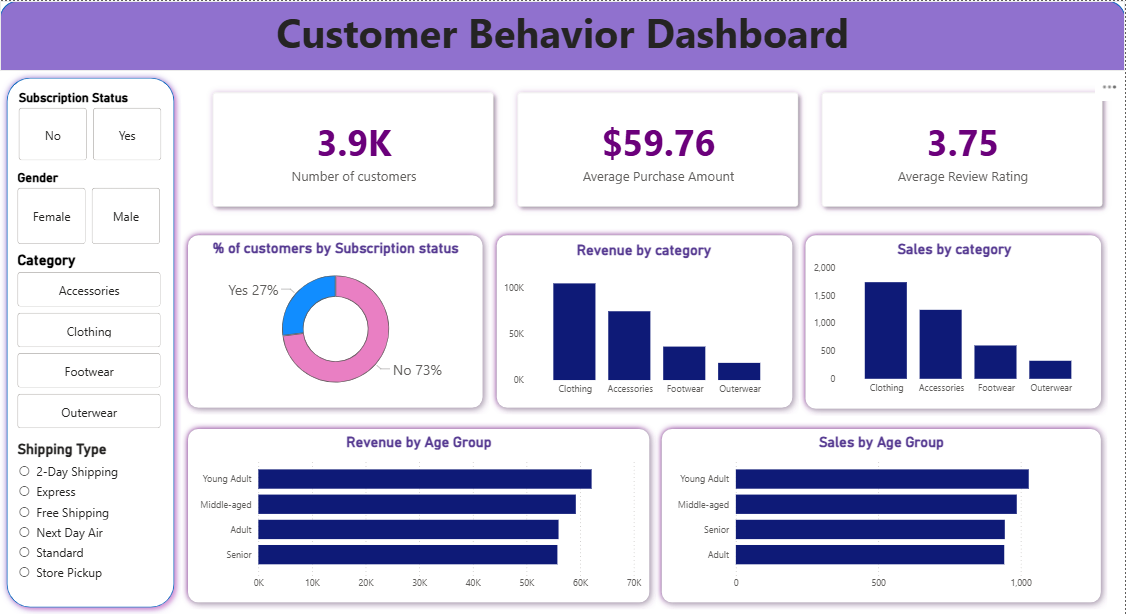

The page's visual inventory and layout, read from the dashboard file:
{"tool":"powerbi","page":{"name":"Page 1","canvas":[1500,820],"ordinal":0},"visuals":[{"type":"cardVisual","fields":{"Data":["customer_db customer.Number of customers","customer_db customer.Average Purchase Amount","customer_db customer.Average Review Rating"]},"box":[255.7,92.9,1244.3,210],"z":0},{"type":"shape","box":[0,0,1500.3,93.3],"z":1000},{"type":"textbox","box":[0,0,1500.3,93.3],"z":2000},{"type":"shape","box":[242.3,303.2,410.9,247.9],"z":3000},{"type":"shape","box":[653.1,303.2,412.3,247.9],"z":4000},{"type":"shape","box":[1065.4,303.2,412.3,249.3],"z":5000},{"type":"donutChart","title":"% of customers by Subscription status","fields":{"Y":["customer_db customer.Number of customers"],"Category":["customer_db customer.subscription_status"]},"box":[255,318.8,385.4,216.8],"z":6000},{"type":"clusteredColumnChart","title":"Revenue by category","fields":{"Y":["Sum(customer_db customer.purchase_amount)"],"Category":["customer_db customer.category"]},"box":[665.9,321.6,383.9,213.9],"z":7000},{"type":"clusteredColumnChart","title":"Sales by category","fields":{"Category":["customer_db customer.category"],"Y":["CountNonNull(customer_db customer.customer_id)"]},"box":[1079.5,320.2,385.4,213.9],"z":8000},{"type":"shape","box":[0,92.9,241.4,724.3],"z":9000},{"type":"advancedSlicerVisual","fields":{"Values":["customer_db customer.subscription_status"]},"box":[20,118.6,201.4,100],"z":10000},{"type":"advancedSlicerVisual","fields":{"Values":["customer_db customer.gender"]},"box":[18.6,224.3,201.4,104.3],"z":11000},{"type":"advancedSlicerVisual","fields":{"Values":["customer_db customer.category"]},"box":[18.6,335.7,201.4,241.4],"z":12000},{"type":"listSlicer","fields":{"Values":["customer_db customer.shipping_type"]},"box":[18.6,587.1,201.4,195.7],"z":13000},{"type":"shape","box":[240.8,561,633.3,249.3],"z":14000},{"type":"shape","box":[874.1,561,603.5,249.3],"z":15000},{"type":"clusteredBarChart","title":"Revenue by Age Group","fields":{"Y":["Sum(customer_db customer.purchase_amount)"],"Category":["customer_db customer.age_bracket"]},"box":[256.4,576.6,603.5,218.2],"z":16000},{"type":"clusteredBarChart","title":"Sales by Age Group","fields":{"Category":["customer_db customer.age_bracket"],"Y":["CountNonNull(customer_db customer.customer_id)"]},"box":[894,576.6,563.9,218.2],"z":17000}]}

Visuals, with their boxes in screenshot pixels (x1, y1, x2, y2), scaled from the page's 1500x820 canvas onto the 1126x615 screenshot:
cardVisual - customer_db customer.Number of customers x customer_db customer.Average Purchase Amount: [left=192, top=70, right=1125, bottom=227]
shape: [left=0, top=0, right=1125, bottom=70]
textbox: [left=0, top=0, right=1125, bottom=70]
shape: [left=182, top=227, right=490, bottom=413]
shape: [left=490, top=227, right=800, bottom=413]
shape: [left=800, top=227, right=1109, bottom=414]
"% of customers by Subscription status" donutChart: [left=191, top=239, right=481, bottom=402]
"Revenue by category" clusteredColumnChart: [left=500, top=241, right=788, bottom=402]
"Sales by category" clusteredColumnChart: [left=810, top=240, right=1100, bottom=401]
shape: [left=0, top=70, right=181, bottom=613]
advancedSlicerVisual - customer_db customer.subscription_status: [left=15, top=89, right=166, bottom=164]
advancedSlicerVisual - customer_db customer.gender: [left=14, top=168, right=165, bottom=246]
advancedSlicerVisual - customer_db customer.category: [left=14, top=252, right=165, bottom=433]
listSlicer - customer_db customer.shipping_type: [left=14, top=440, right=165, bottom=587]
shape: [left=181, top=421, right=656, bottom=608]
shape: [left=656, top=421, right=1109, bottom=608]
"Revenue by Age Group" clusteredBarChart: [left=192, top=432, right=645, bottom=596]
"Sales by Age Group" clusteredBarChart: [left=671, top=432, right=1094, bottom=596]
